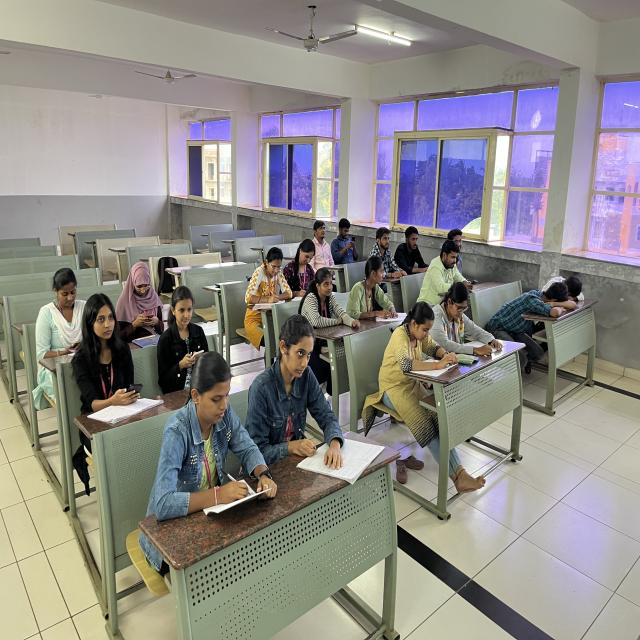Reading: (389, 299, 447, 389), (433, 280, 497, 358), (354, 256, 400, 323)
Sleeping: (497, 279, 570, 336), (549, 254, 592, 306)
Using Phone: (74, 298, 152, 424), (155, 280, 216, 382), (39, 254, 87, 360), (114, 250, 174, 334), (422, 233, 482, 293), (330, 214, 362, 265)
Writing: (157, 355, 270, 511), (244, 314, 353, 468), (242, 244, 293, 306), (285, 237, 316, 298)
